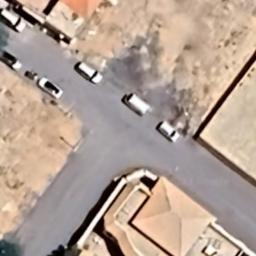sedan: (36, 70, 68, 102)
truck: (122, 88, 152, 119)
van: (74, 58, 105, 88), (156, 118, 183, 148)
